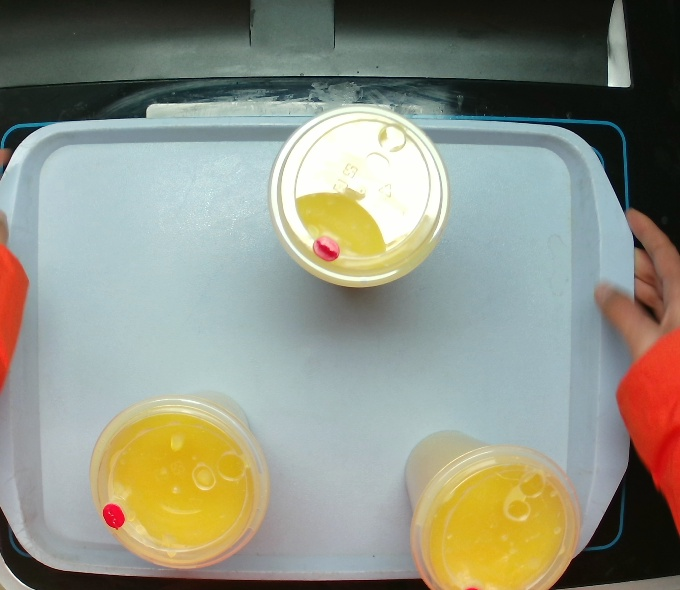wcq-ChengZhi: (263, 103, 453, 292), (86, 387, 272, 572), (400, 426, 582, 590)
